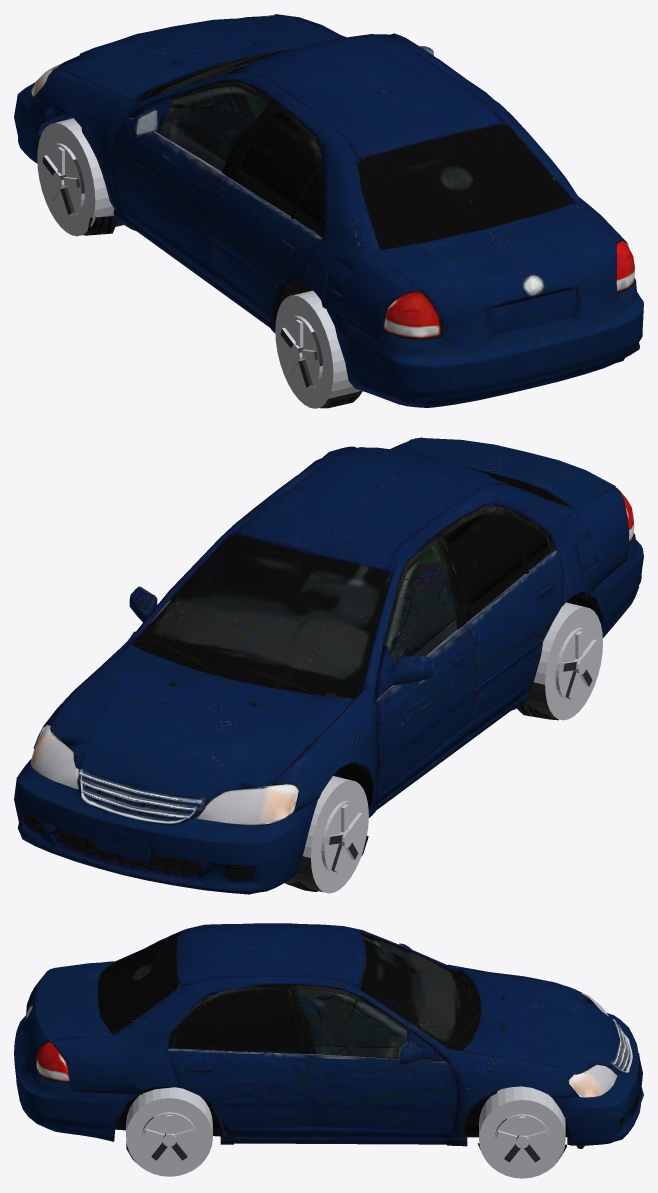
File: carro-esportivo.glb
3 renders of one model, top to bottom at view 1: azimuth 30°, elevation 25°; view 2: azimuth 150°, elevation 25°; view 3: azimuth 270°, elevation 25°, orthographic. The views are drawn at different scales.
Parts seen in each view (by area): view 1: Corpo, Roda_RL, Roda_FL; view 2: Corpo, Roda_RL, Roda_FL; view 3: Corpo, Roda_FR, Roda_RR.
Boxes of the visible parts, x1,y1,x2,y2 form: Corpo: (14, 14, 643, 408); Roda_RL: (275, 290, 362, 408); Roda_FL: (37, 118, 123, 236); Corpo: (14, 437, 643, 894); Roda_RL: (525, 602, 602, 720); Roda_FL: (285, 776, 368, 893); Corpo: (14, 923, 643, 1163); Roda_FR: (479, 1086, 565, 1178); Roda_RR: (126, 1087, 212, 1176).
Bounding box in the file's own units: 1.86 × 1.41 × 4.5.
3 materials, 1 textured.
